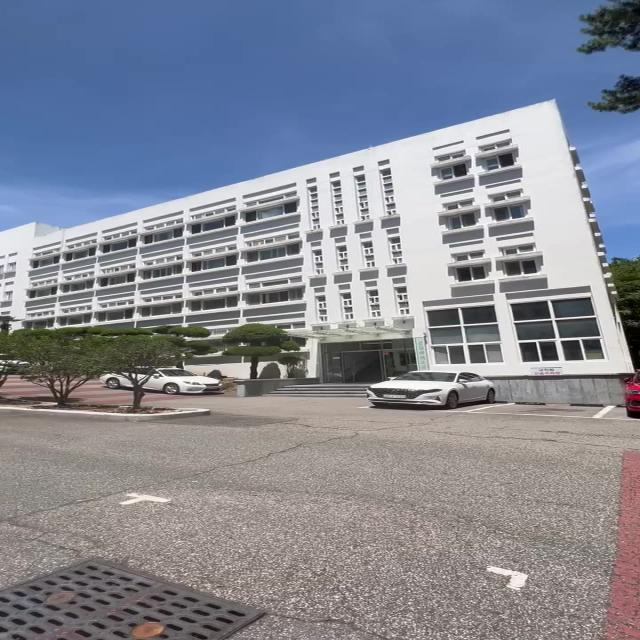building: (30, 108, 640, 355)
